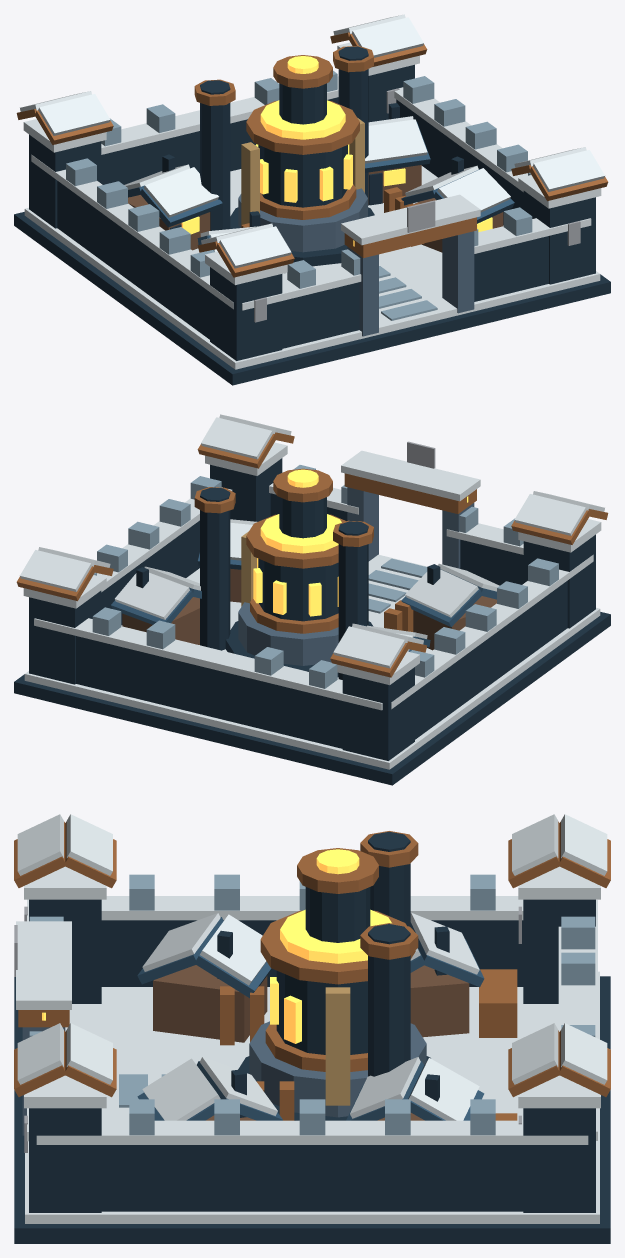
The model's file is forge_neutral.glb.
3 views of the same model, one above another, from view 1: azimuth 30°, elevation 25°; view 2: azimuth 150°, elevation 25°; view 3: azimuth 270°, elevation 25° (orthographic). The views are drawn at different scales.
Visible parts, largest first — view 1: forge_neutral; view 2: forge_neutral; view 3: forge_neutral.
Part boxes in pixels (box(x1,y1,x2,y2)): forge_neutral: box(14, 14, 610, 385); forge_neutral: box(14, 414, 610, 785); forge_neutral: box(14, 814, 610, 1243).
Size of the model in its own units: 2.19 by 1.05 by 2.19.
